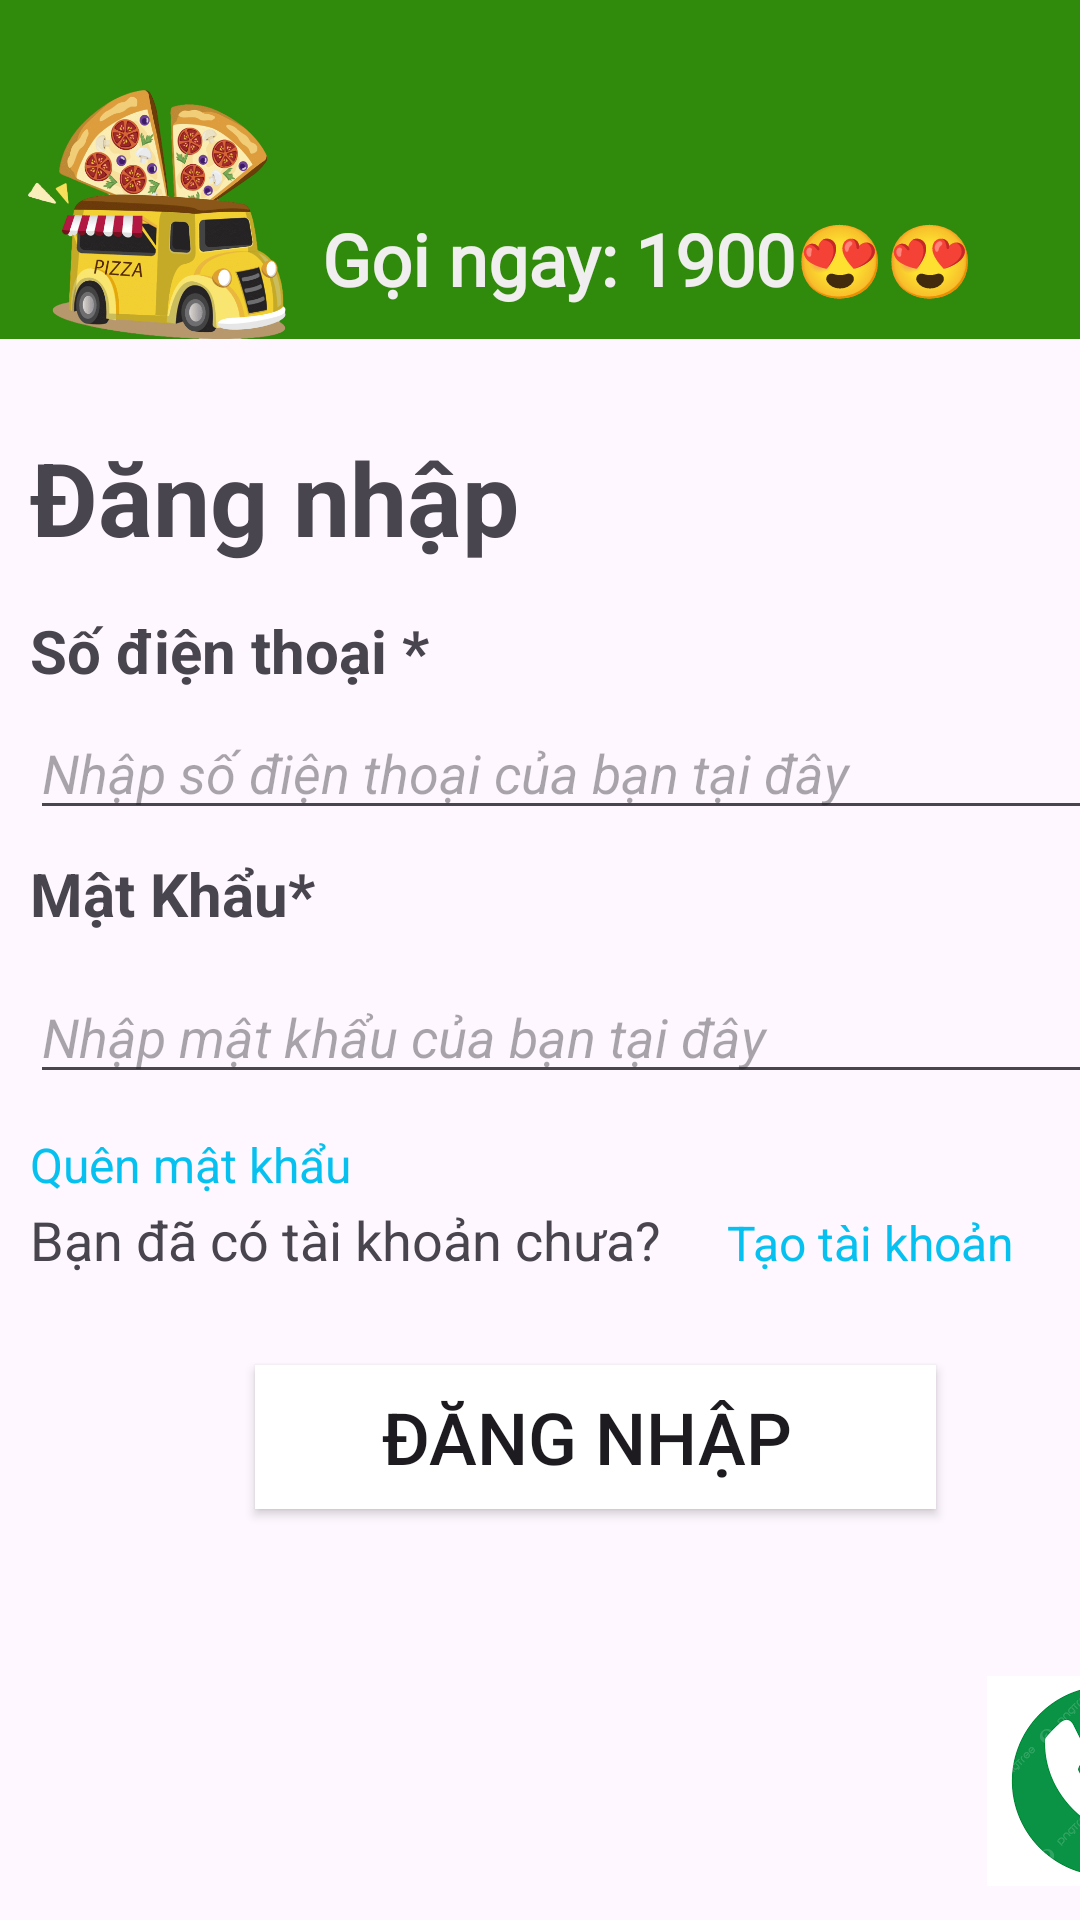

Locate icon controls on the screen. Image size 1080*1920, boxes as (x1, y1, x2, y2).
car: (28, 90, 286, 339)
